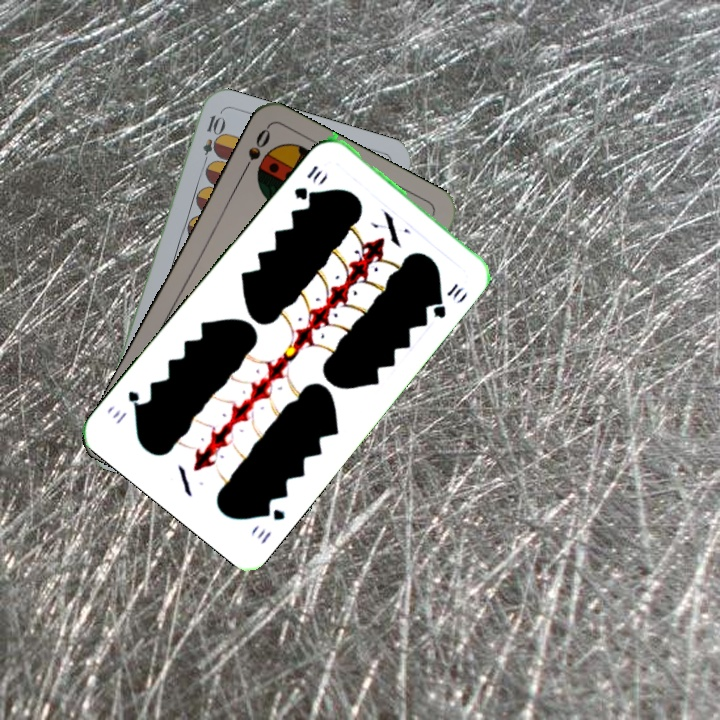E10: (198, 111, 225, 170)
G10: (252, 501, 288, 547), (290, 161, 326, 203)
SO: (237, 124, 273, 179)
